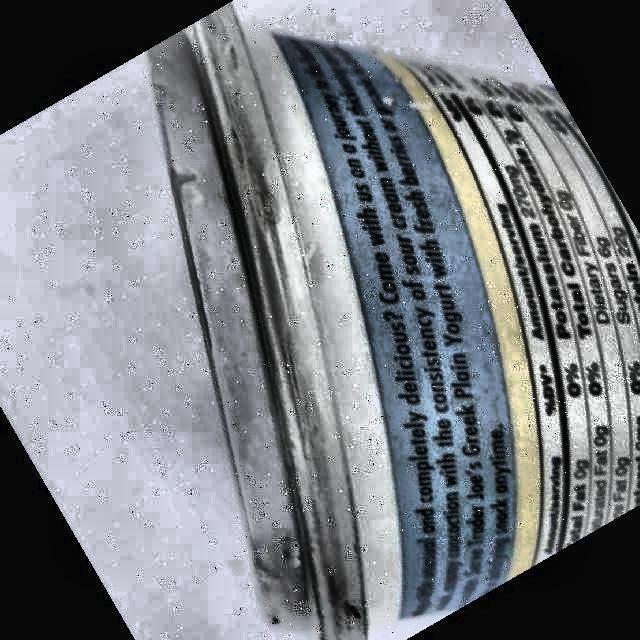plastic: (148, 6, 640, 640)
